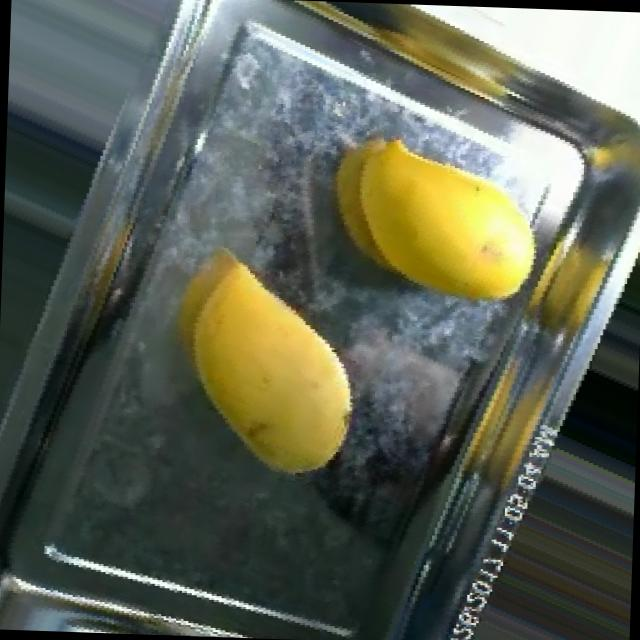fruit: (140, 218, 408, 507), (294, 106, 578, 337)
